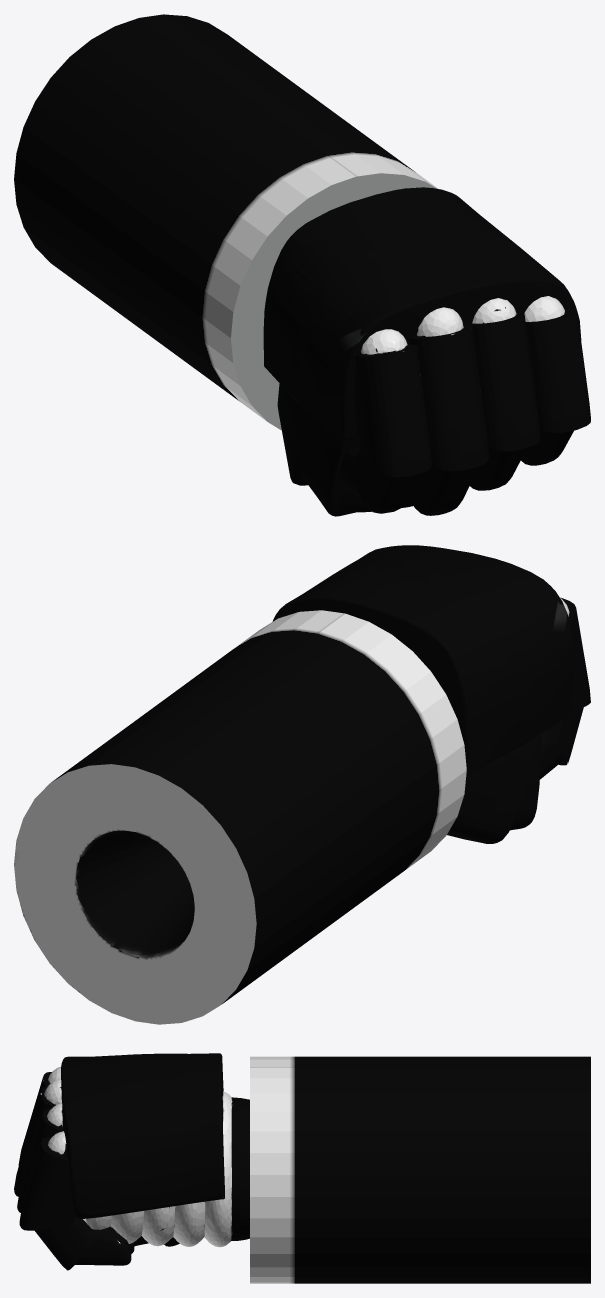
The model's file is LfistTEST.obj.
The picture shows the model from 3 angles, top to bottom: view 1: azimuth 30°, elevation 25°; view 2: azimuth 150°, elevation 25°; view 3: azimuth 270°, elevation 25°; orthographic projection. The views are drawn at different scales.
Parts seen in each view (by area): view 1: 圓柱體, t_hand_-__1; view 2: 圓柱體, t_hand_-__1; view 3: 圓柱體, t_hand_-__1.
Boxes of the visible parts, left/top/right/bottom form: 圓柱體: left=14, top=14, right=437, bottom=430; t_hand_-__1: left=263, top=187, right=590, bottom=516; 圓柱體: left=14, top=610, right=466, bottom=1024; t_hand_-__1: left=272, top=545, right=590, bottom=843; 圓柱體: left=250, top=1056, right=590, bottom=1283; t_hand_-__1: left=14, top=1053, right=249, bottom=1270.
Size of the model in its own units: 1 by 1 by 2.54.
2 materials, 2 textured.
